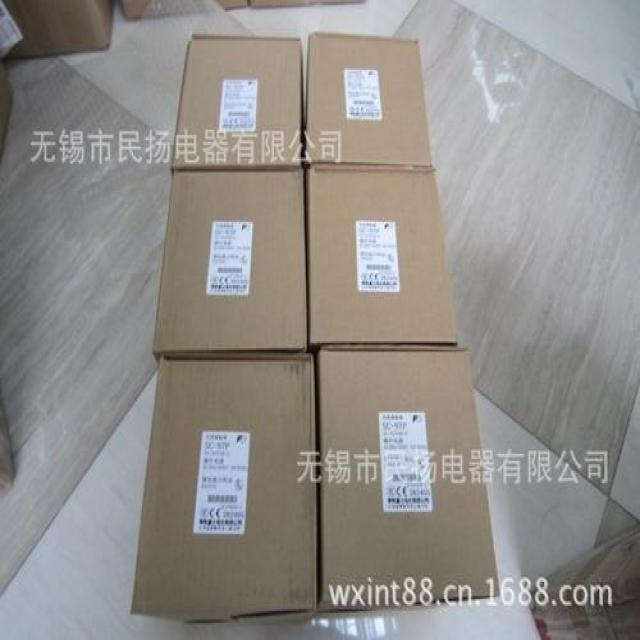box: (317, 344, 502, 621), (132, 355, 315, 628), (153, 169, 306, 362), (305, 165, 457, 347), (171, 36, 301, 169), (303, 32, 432, 166), (0, 0, 114, 61)
